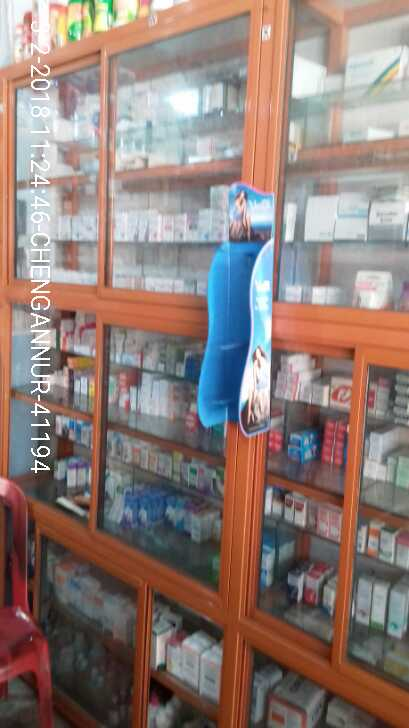reject: (165, 289, 238, 397)
